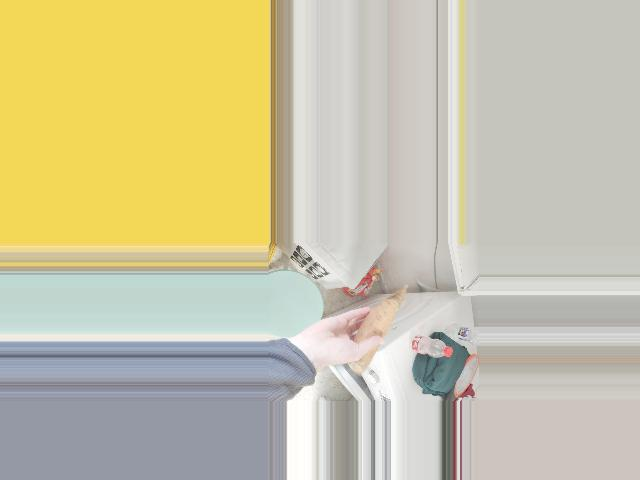sweet_potato: (354, 305, 400, 353)
